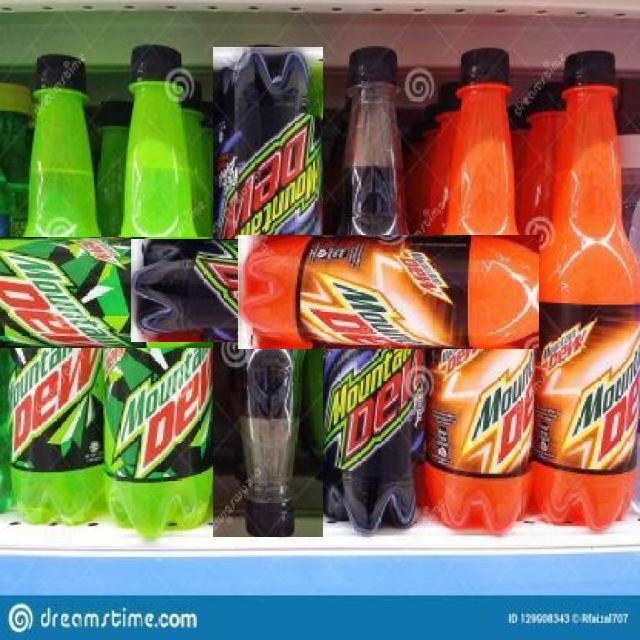Drinks: (212, 46, 323, 537), (130, 239, 617, 342), (539, 50, 639, 533), (237, 236, 640, 349), (0, 237, 405, 348), (0, 241, 292, 339)
